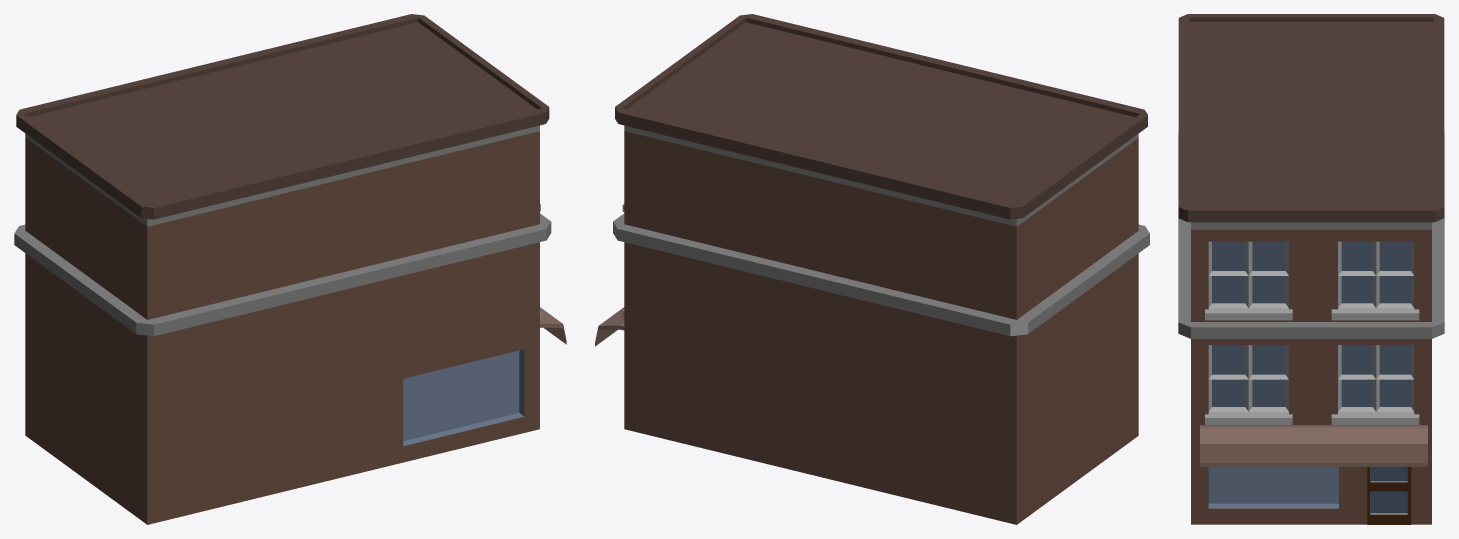
File: BradleyBuilding.fbx
3 renders of one model, left to right at view 1: azimuth 30°, elevation 25°; view 2: azimuth 150°, elevation 25°; view 3: azimuth 270°, elevation 25°, orthographic.
Parts seen in each view (by area): view 1: Building; view 2: Building; view 3: Building.
Part boxes in pixels (x1,y1,x2,y2): Building: [14, 14, 566, 524]; Building: [595, 14, 1149, 524]; Building: [1178, 14, 1444, 524].
Bounding box in the file's own units: 19.54 × 13.8 × 10.49.
